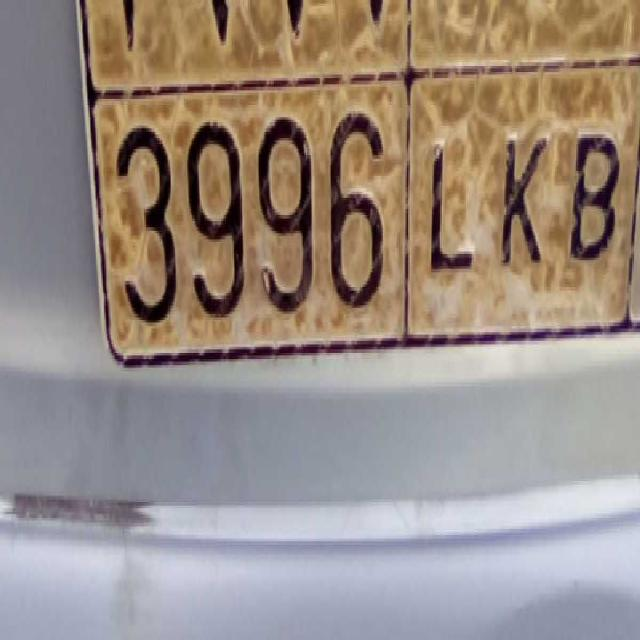license_plate: (103, 71, 632, 352)
